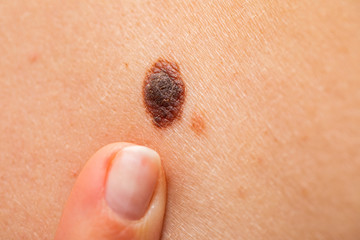melanoma: (124, 45, 219, 147)
